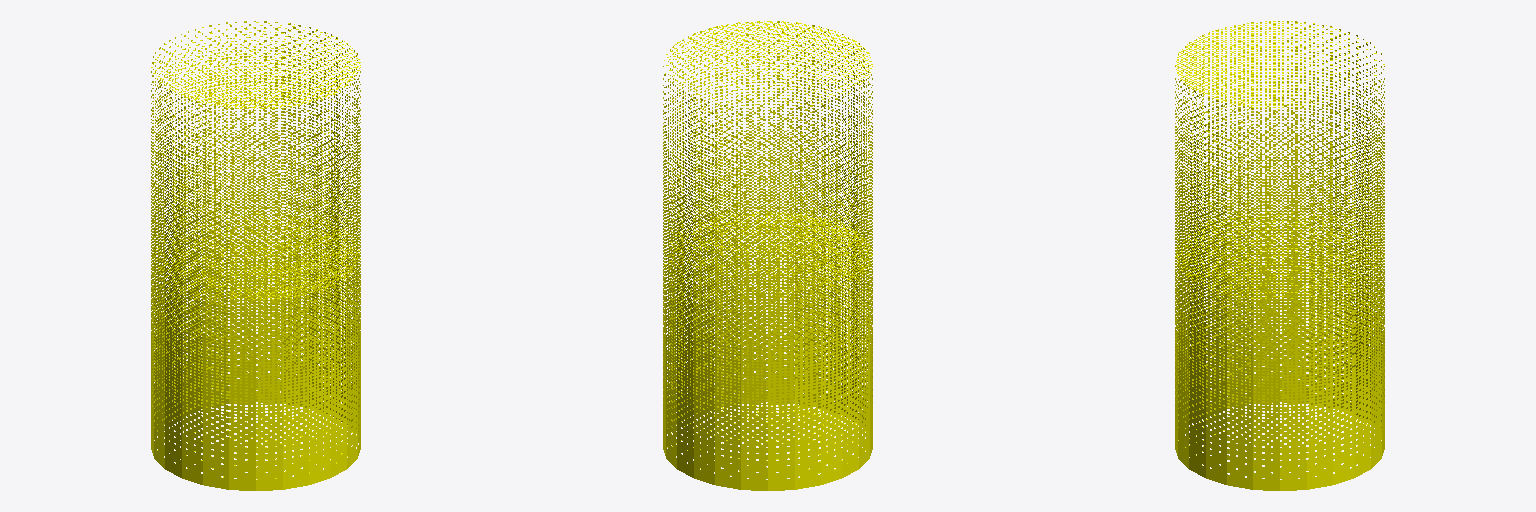
The picture shows the model from 3 angles: view 1: azimuth 30°, elevation 25°; view 2: azimuth 150°, elevation 25°; view 3: azimuth 270°, elevation 25°; orthographic projection.
Parts seen in each view (by area): view 1: entity0_brush0, entity0_brush1; view 2: entity0_brush0, entity0_brush1; view 3: entity0_brush0, entity0_brush1.
Boxes of the visible parts, <box> form: entity0_brush0: <box>151,212,360,490</box>; entity0_brush1: <box>151,21,360,299</box>; entity0_brush0: <box>663,212,872,490</box>; entity0_brush1: <box>663,21,872,299</box>; entity0_brush0: <box>1175,212,1384,490</box>; entity0_brush1: <box>1175,21,1384,299</box>.
Size of the model in its own units: 96 by 192 by 96.
1 materials, 1 textured.